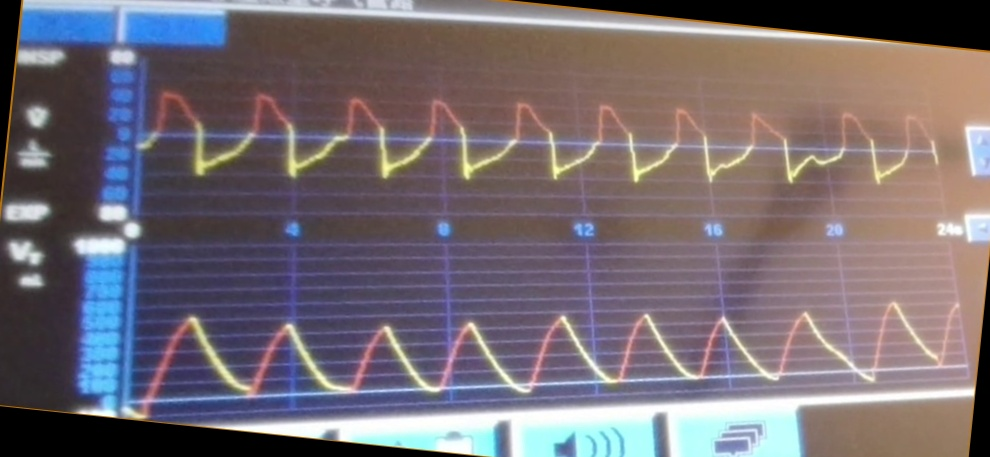Premature_cycling Flow: (145, 86, 941, 200)
Premature_cycling Volume: (137, 297, 961, 396)
